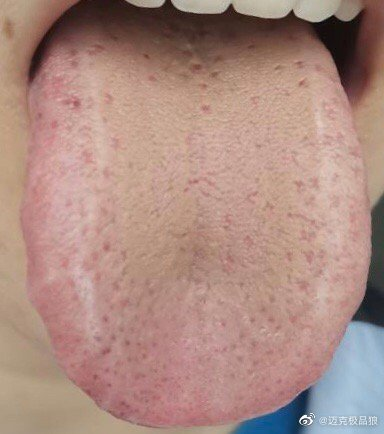hongdianshe: (70, 96, 83, 111), (100, 312, 110, 326), (103, 345, 112, 355)
huangtaishe: (20, 3, 372, 428)
